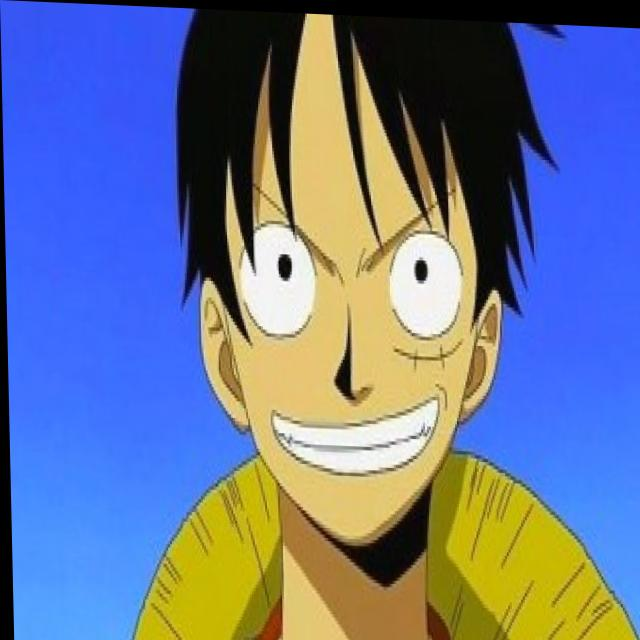Luffy: (155, 5, 550, 543)
